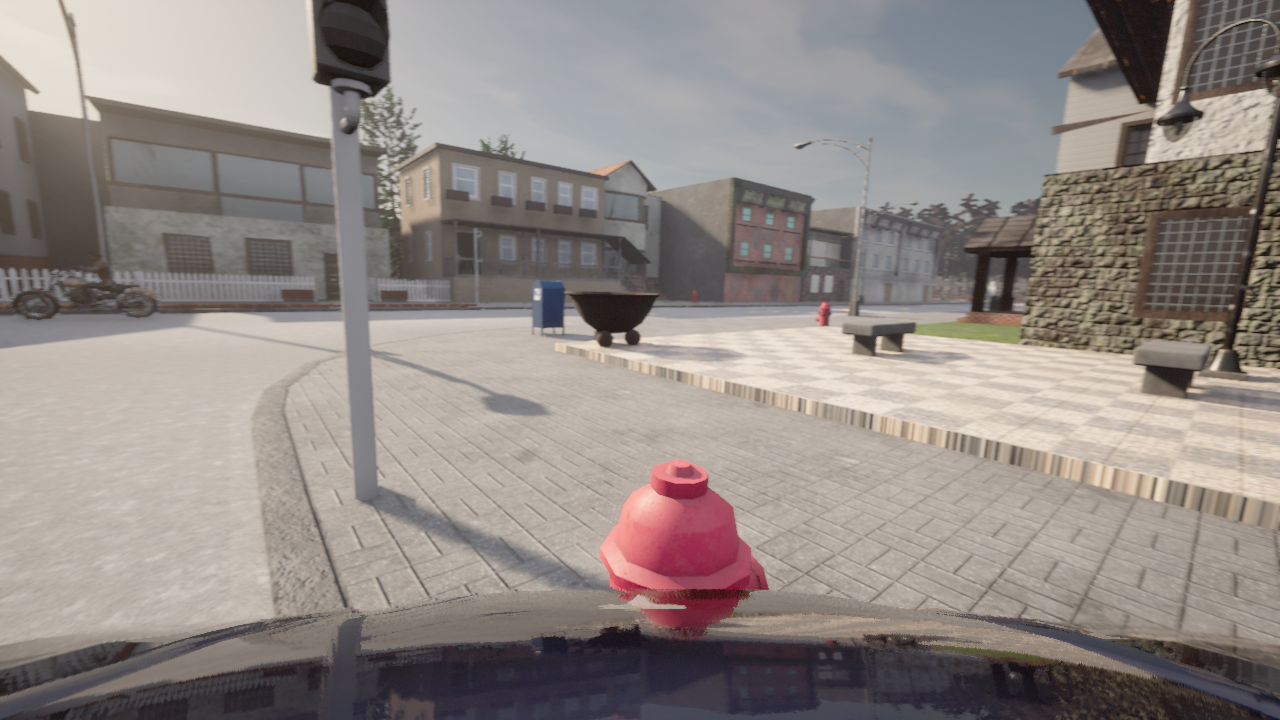cyclist: (0, 588, 1279, 719), (11, 265, 158, 320)
